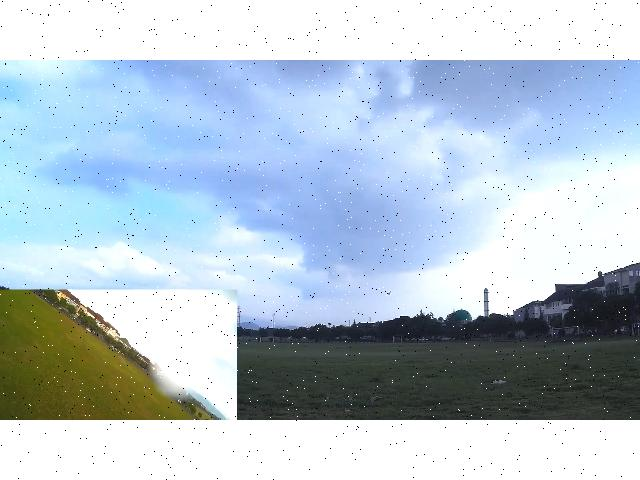Anti-Drone: (378, 282, 406, 302)
